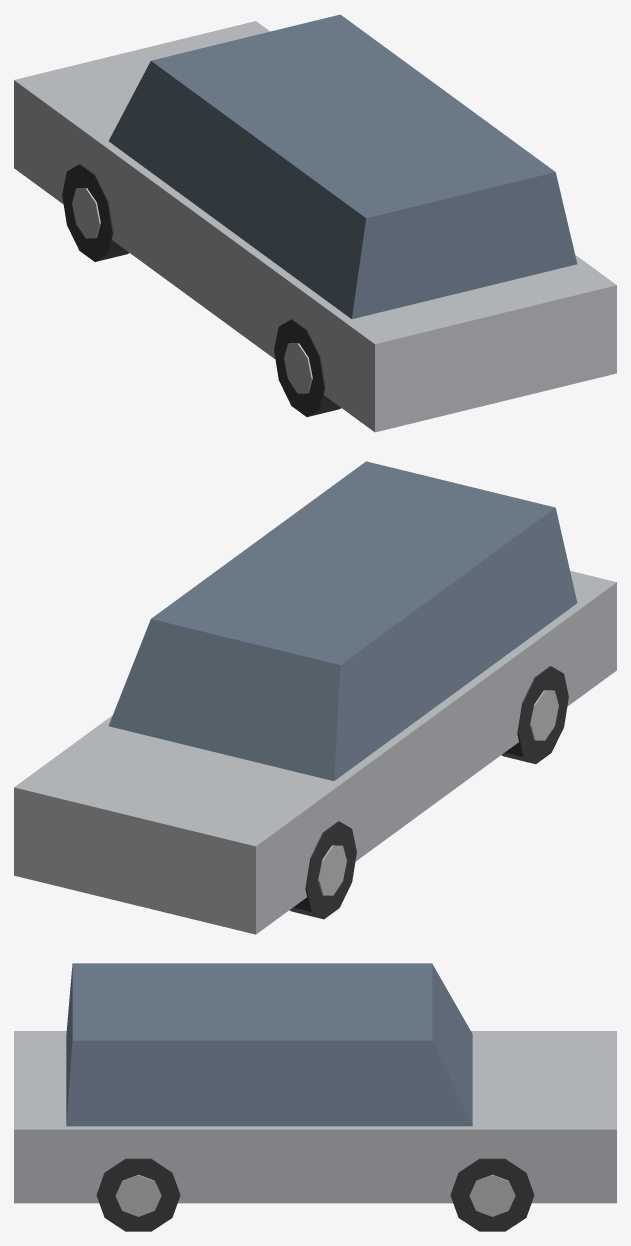
File: car_npc_kombi_grey.glb
The picture shows the model from 3 angles, top to bottom: view 1: azimuth 30°, elevation 25°; view 2: azimuth 150°, elevation 25°; view 3: azimuth 270°, elevation 25°; orthographic projection. The views are drawn at different scales.
Visible parts, largest first — view 1: car_kombi_grey; view 2: car_kombi_grey; view 3: car_kombi_grey.
Part boxes in pixels (<box>): car_kombi_grey: <box>14,14,616,432</box>; car_kombi_grey: <box>14,461,616,934</box>; car_kombi_grey: <box>14,963,616,1231</box>.
Bounding box in the file's own units: 1.82 × 1.51 × 4.6.
